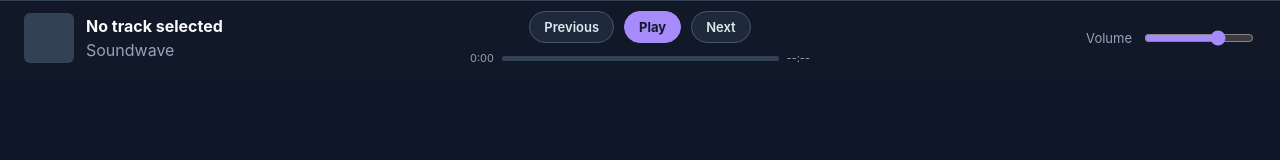
Scenario: PlaybackBar › play / pause interaction › returns to Play after a second click
This screenshot has width=1280, height=160.
Click the button "Play": (653,27) [624,11,681,43]
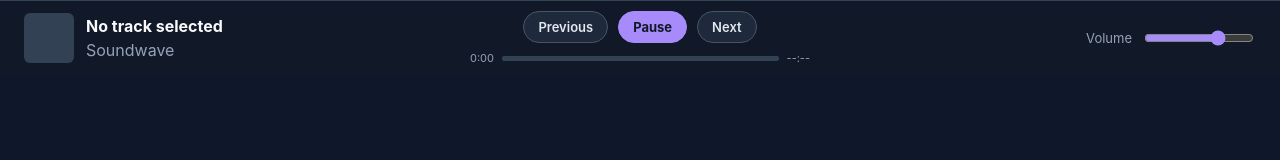
Click the button "Pause": (653,27) [618,11,687,43]
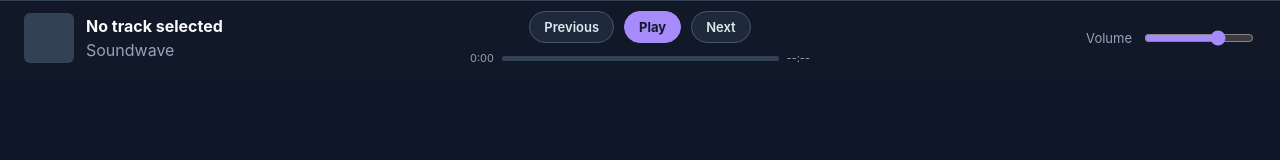
Check: the button "Play" is shown, box [624,11,681,43]
